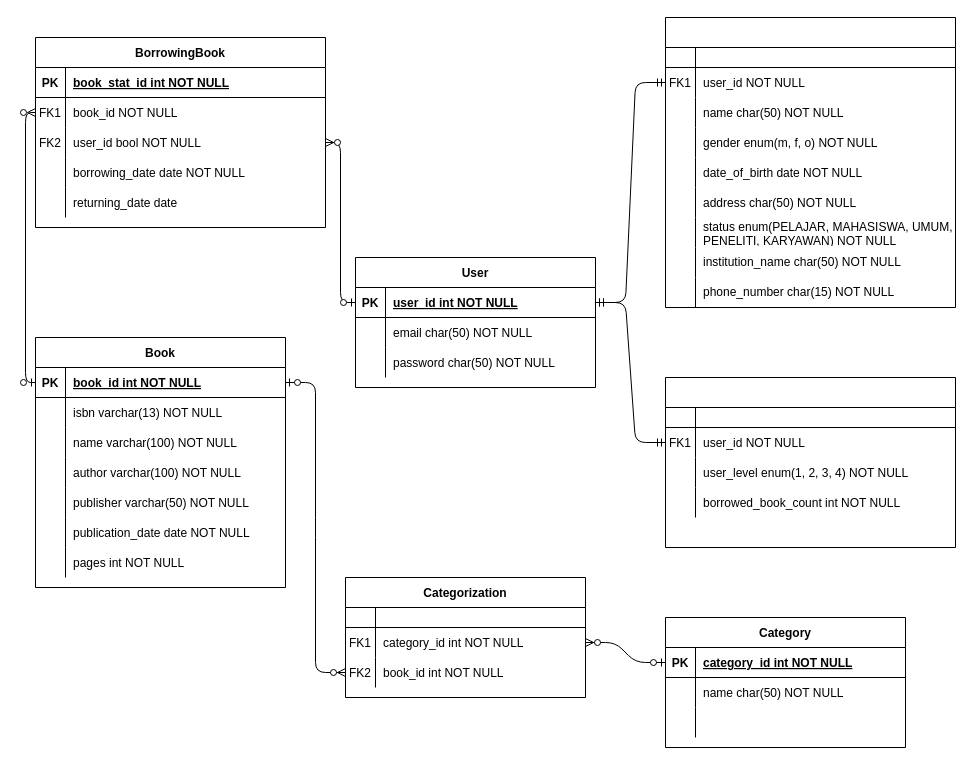
The diagram is 973 pixels wide and 765 high, and some of its shapes have lost their labels. The box of each missing label's shape, as (x1, y1, x2, y2) in pixels:
UserProfile: (664, 16, 956, 308)
UserStats: (664, 376, 956, 548)
